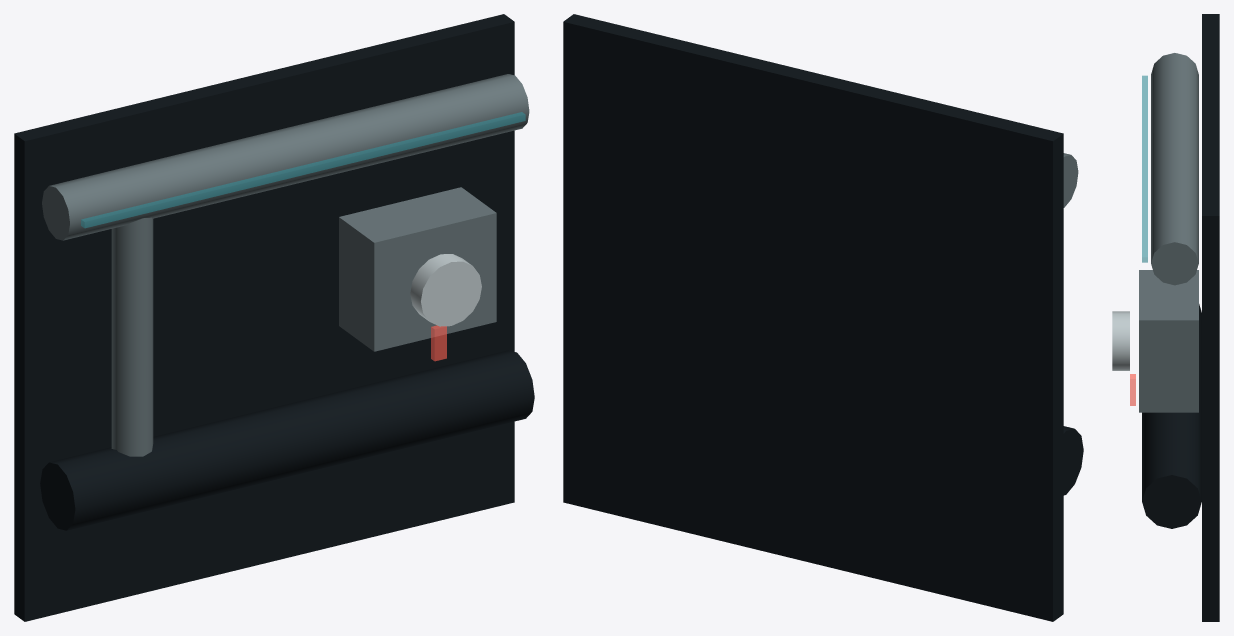
File: hp_room_cyber_pipe_manifold.glb
3 views of the same model, side by side, from view 1: azimuth 30°, elevation 25°; view 2: azimuth 150°, elevation 25°; view 3: azimuth 270°, elevation 25° (orthographic). The views are drawn at different scales.
Parts seen in each view (by area): view 1: back_plate, run_lower, run_upper, junction_box, drop_pipe, flow_cyan, weep_gauge; view 2: back_plate, run_lower; view 3: back_plate, run_upper, junction_box, run_lower, flow_cyan, weep_gauge, weep_red.
Boxes of the visible parts, bbox=[...] form: back_plate: bbox=[14, 14, 514, 621]; run_lower: bbox=[40, 350, 534, 530]; run_upper: bbox=[42, 74, 529, 240]; junction_box: bbox=[339, 187, 496, 351]; drop_pipe: bbox=[111, 217, 153, 456]; flow_cyan: bbox=[81, 112, 525, 228]; weep_gauge: bbox=[410, 254, 481, 326]; back_plate: bbox=[563, 14, 1063, 621]; run_lower: bbox=[1063, 426, 1083, 495]; back_plate: bbox=[1202, 14, 1219, 621]; run_upper: bbox=[1151, 53, 1198, 285]; junction_box: bbox=[1139, 270, 1198, 412]; run_lower: bbox=[1142, 304, 1201, 528]; flow_cyan: bbox=[1142, 75, 1147, 262]; weep_gauge: bbox=[1112, 311, 1129, 370]; weep_red: bbox=[1130, 374, 1135, 405].
Bounding box in the file's own units: 1.6 × 1.5 × 0.36.
